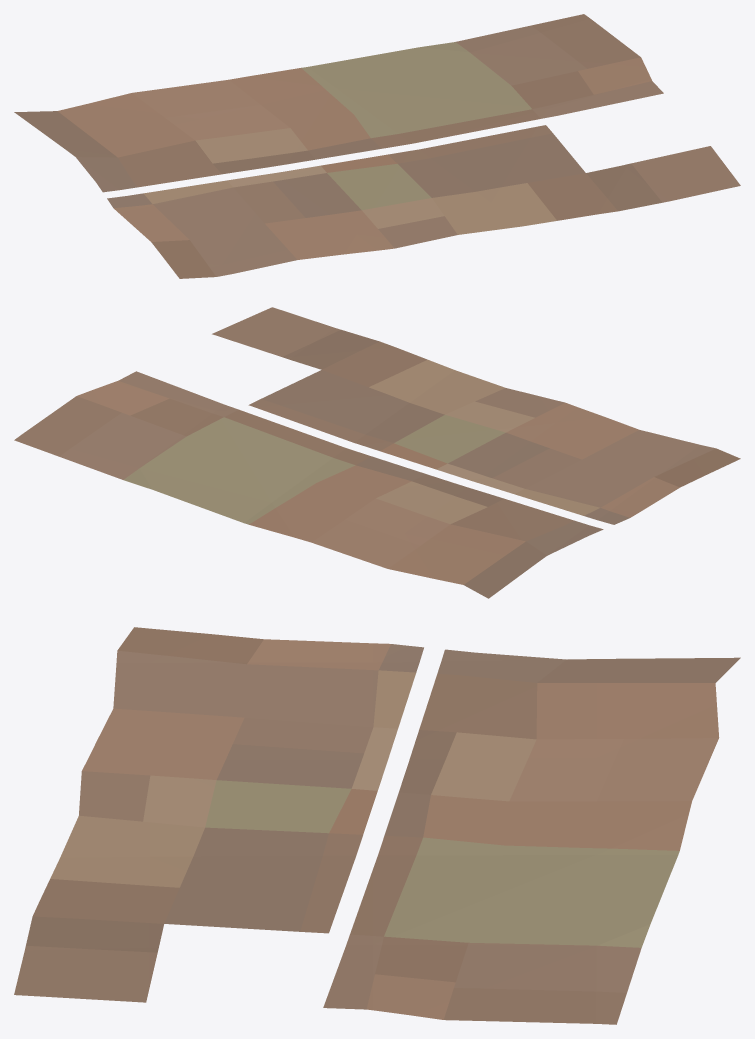
The model's file is farm_18_23_soil.glb.
The picture shows the model from 3 angles, top to bottom: view 1: azimuth 30°, elevation 25°; view 2: azimuth 150°, elevation 25°; view 3: azimuth 270°, elevation 25°; orthographic projection. The views are drawn at different scales.
Visible parts, largest first — view 1: geometry_0; view 2: geometry_0; view 3: geometry_0.
Part boxes in pixels (<box>): geometry_0: <box>14,14,740,278</box>; geometry_0: <box>14,307,740,598</box>; geometry_0: <box>14,627,740,1024</box>.
Bounding box in the file's own units: 340 × 5.62 × 260.
